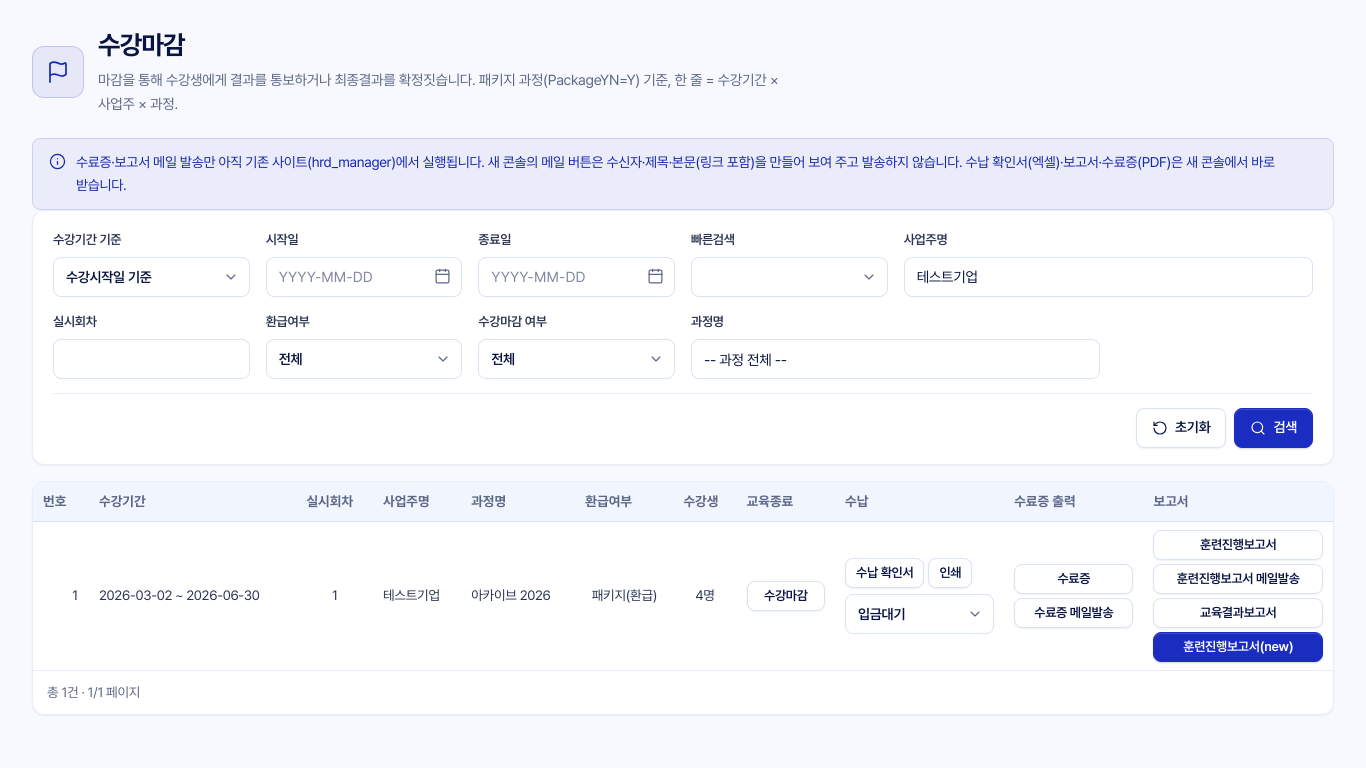
Test: 수강 관리 pages › 수강마감: waits for a search, then renders the legacy columns and posts the closing on confirm
Expected: the heading "수강마감" is shown, [98, 29, 185, 60]
Expected: the text "테스트기업" is shown, [383, 588, 440, 604]
Click the button "수강마감" at point(786, 596), box [747, 581, 825, 611]
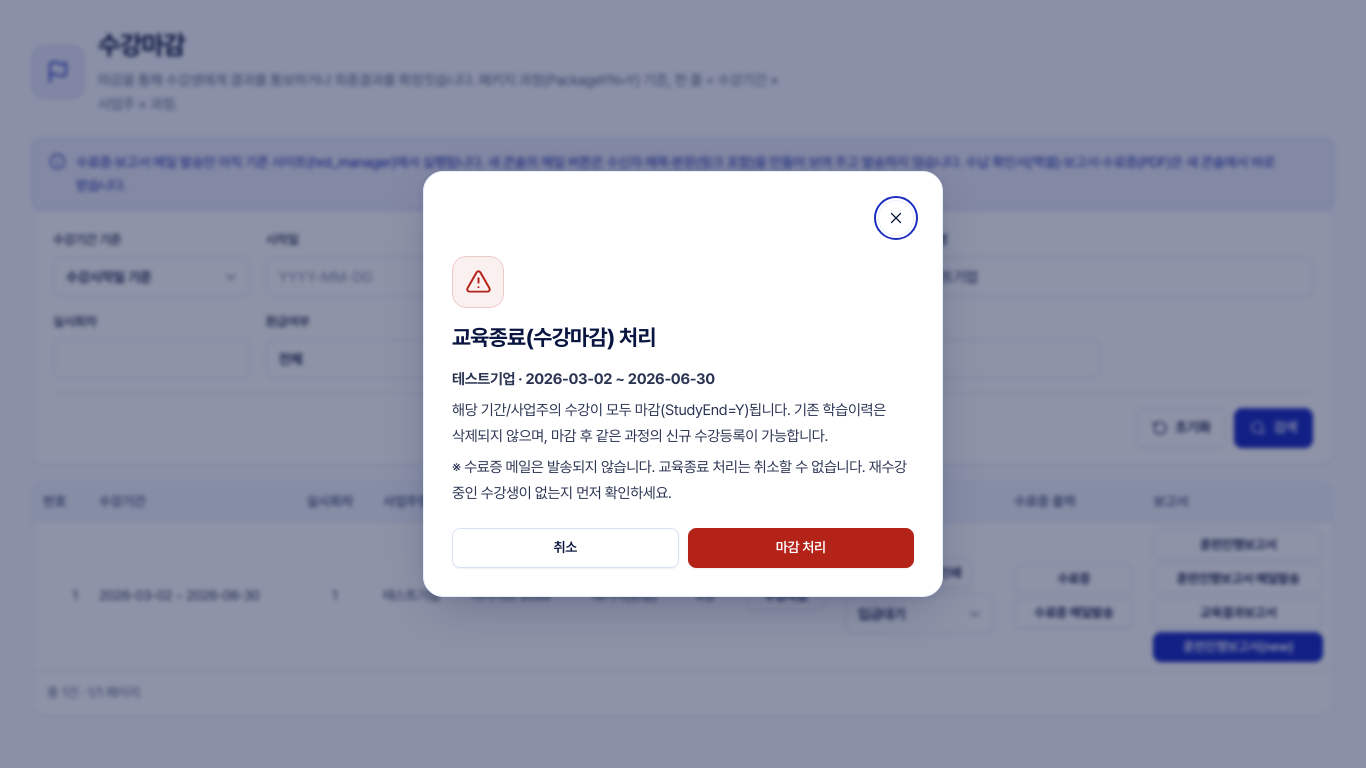
Now the heading "교육종료(수강마감) 처리" is shown, box [452, 324, 656, 350]
Click the button "마감 처리" at point(801, 548), box [688, 528, 914, 568]
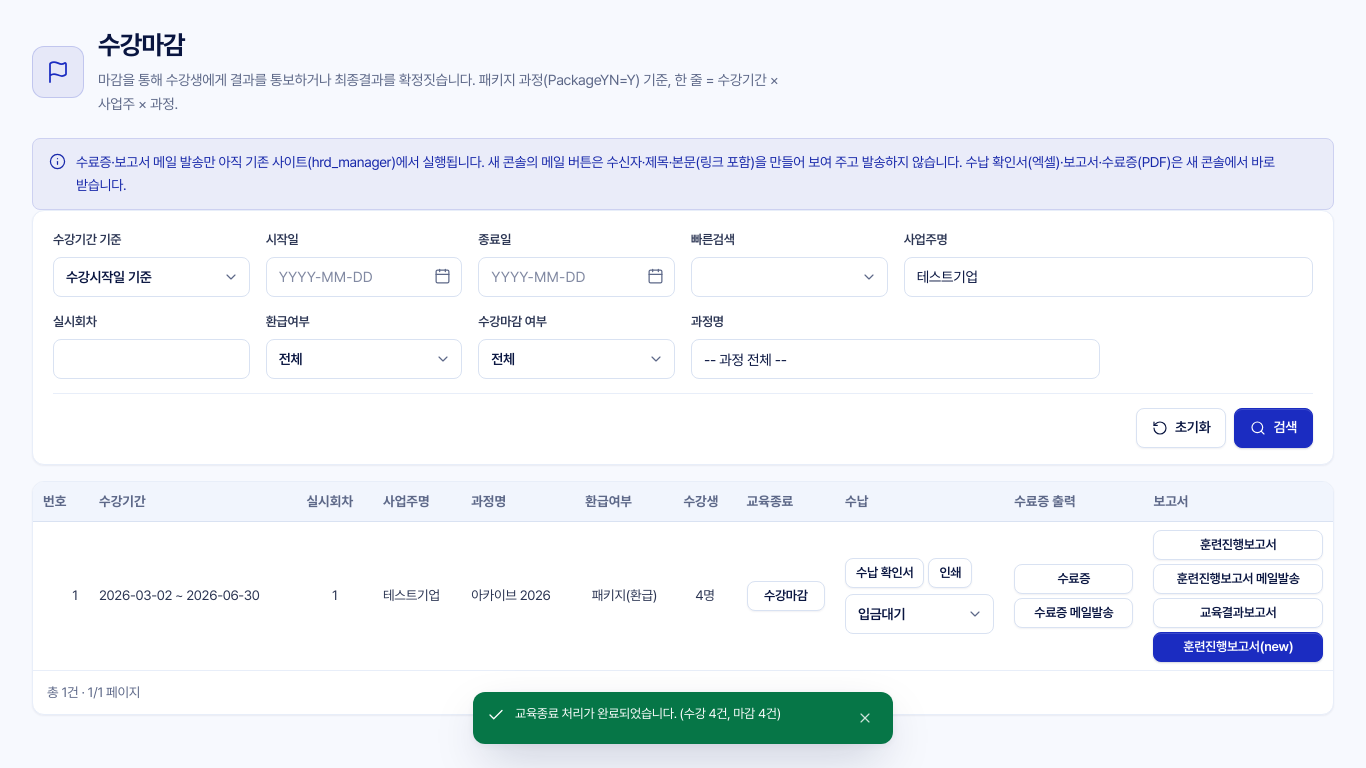
Now the text "교육종료 처리가 완료되었습니다. (수강 4건, 마감 4건)" is shown, box [515, 706, 781, 721]
